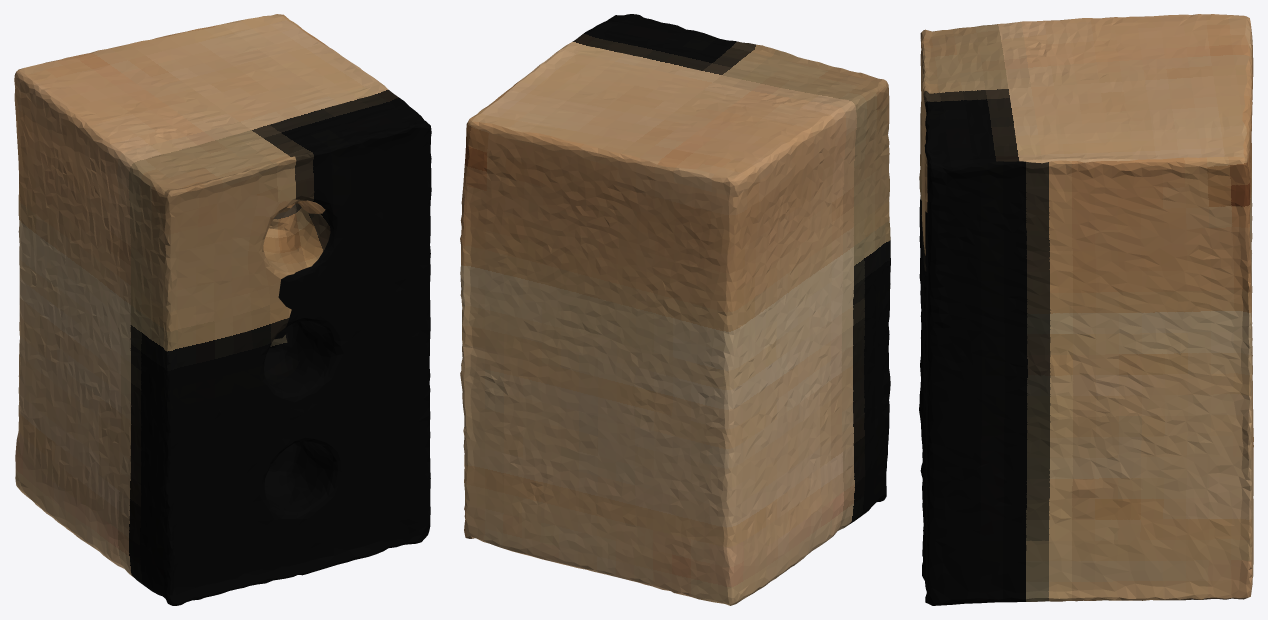
3 renders of one model, left to right at view 1: azimuth 30°, elevation 25°; view 2: azimuth 150°, elevation 25°; view 3: azimuth 270°, elevation 25°, orthographic. The views are drawn at different scales.
Bounding box in the file's own units: 0.052 × 0.0776 × 0.0512.
